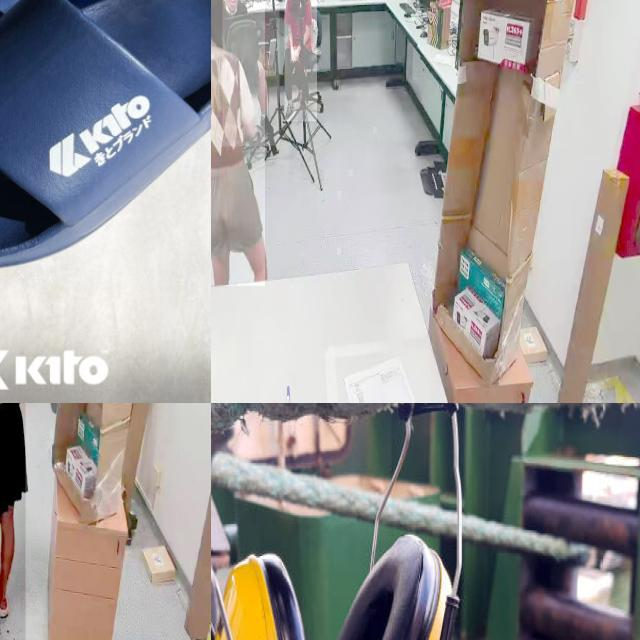Ear-protection: (211, 403, 473, 640)
Sandals: (0, 0, 211, 271)
face_nomask: (224, 0, 238, 9)
hand_noglove: (291, 47, 299, 62), (290, 46, 296, 64)
person: (211, 0, 265, 287), (222, 0, 279, 146), (284, 0, 317, 122)
